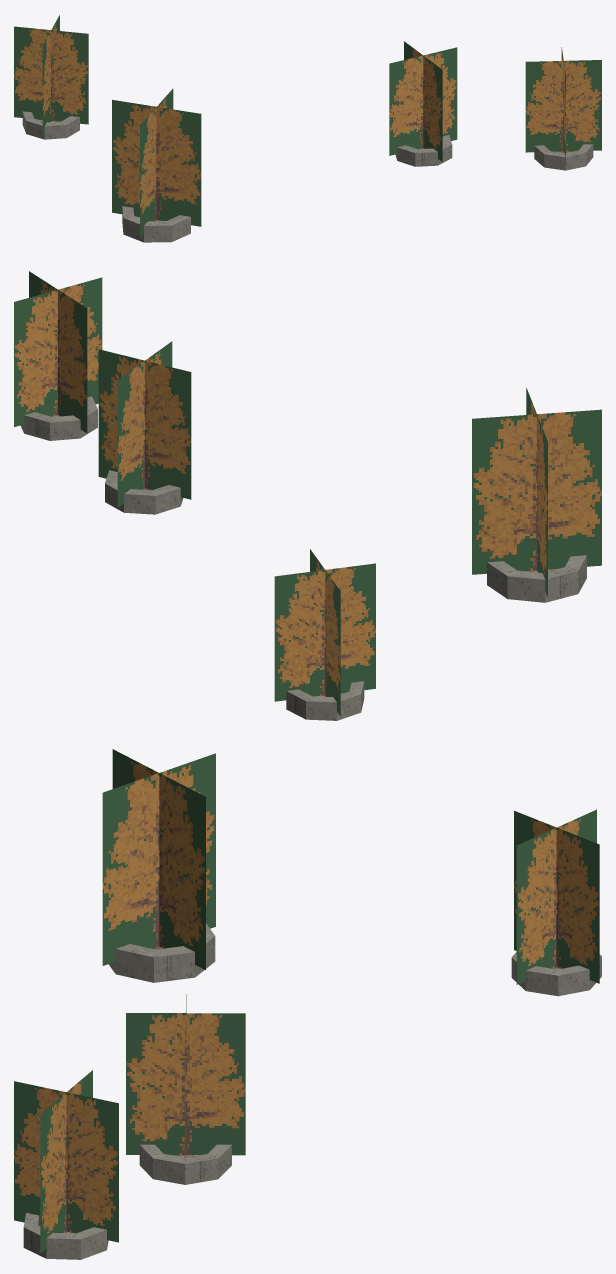
The model's file is procgen-procpain-tree-park-large-xm2z1.obj.
3 renders of one model, top to bottom at view 1: azimuth 30°, elevation 25°; view 2: azimuth 150°, elevation 25°; view 3: azimuth 270°, elevation 25°, orthographic. The views are drawn at different scales.
Size of the model in its own units: 30.06 by 7.95 by 22.73.
